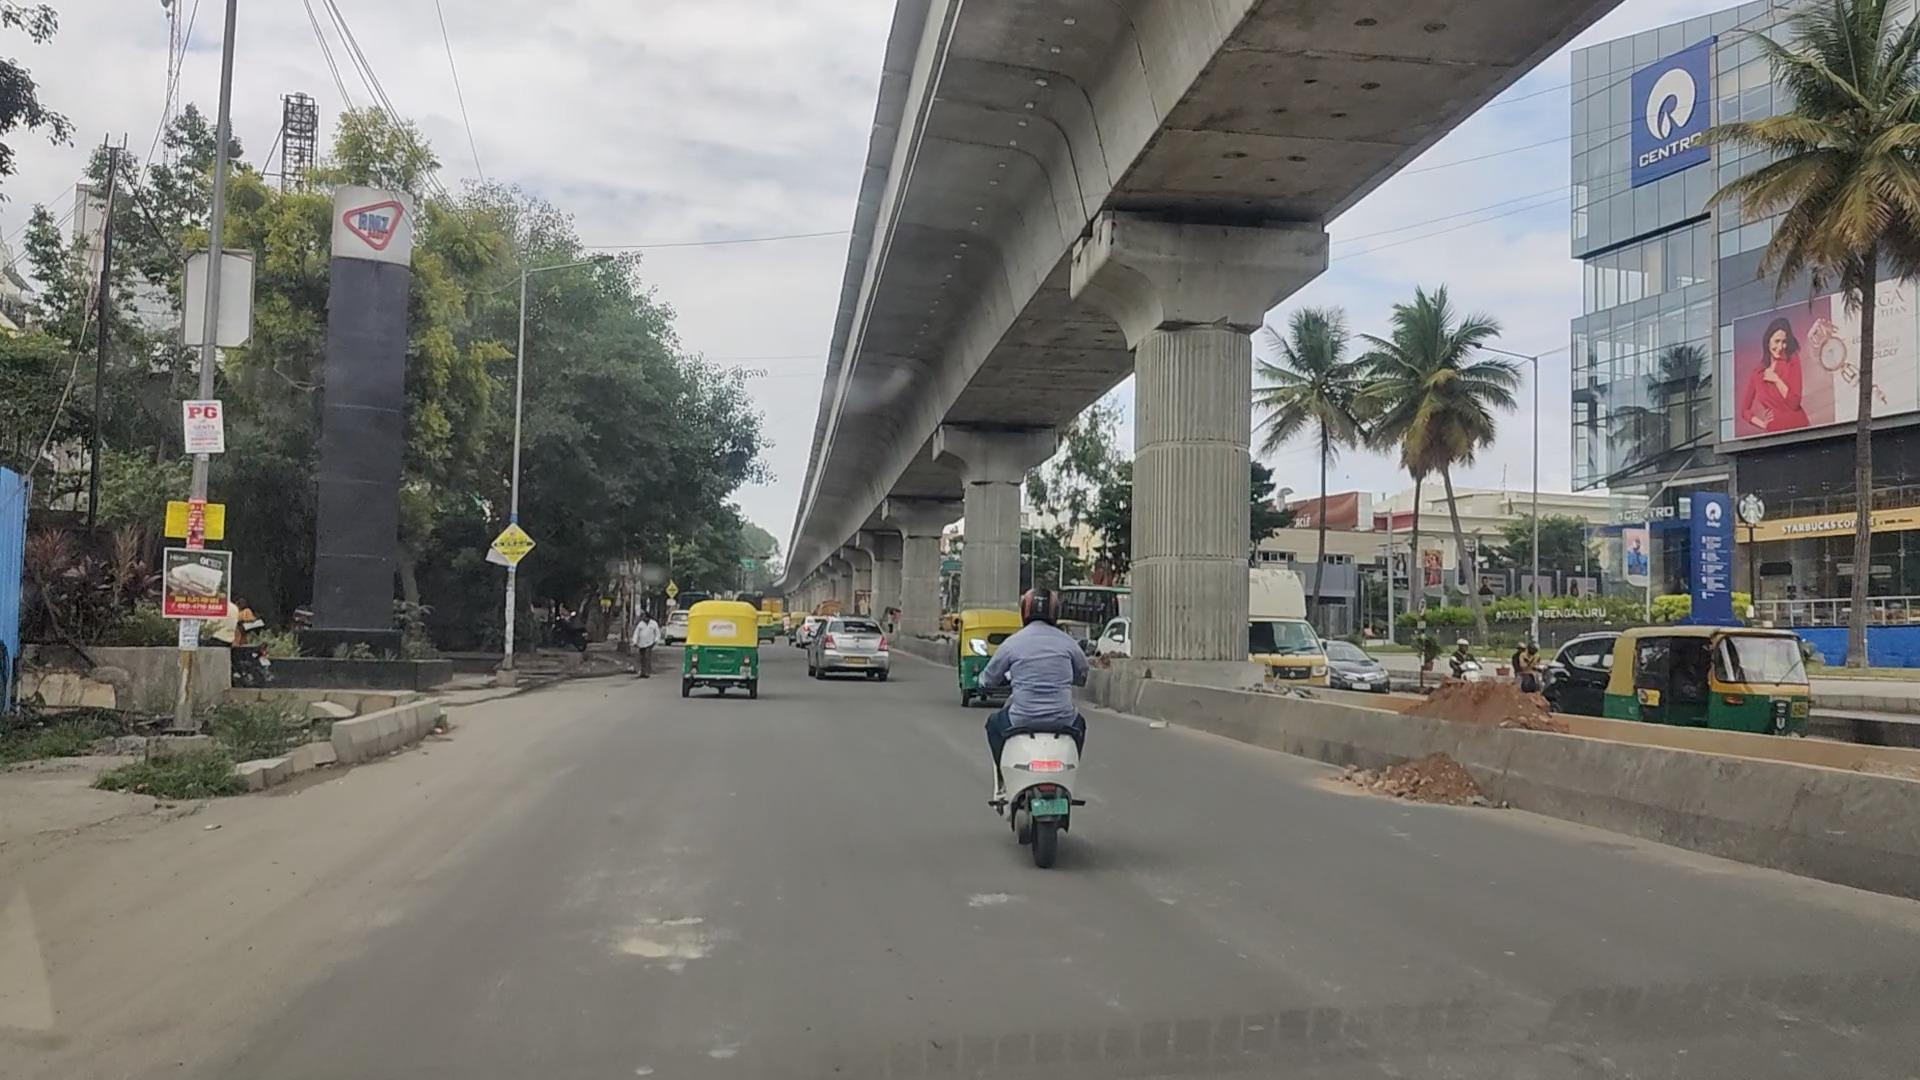LMV: (978, 556, 1104, 885), (686, 595, 769, 688)
